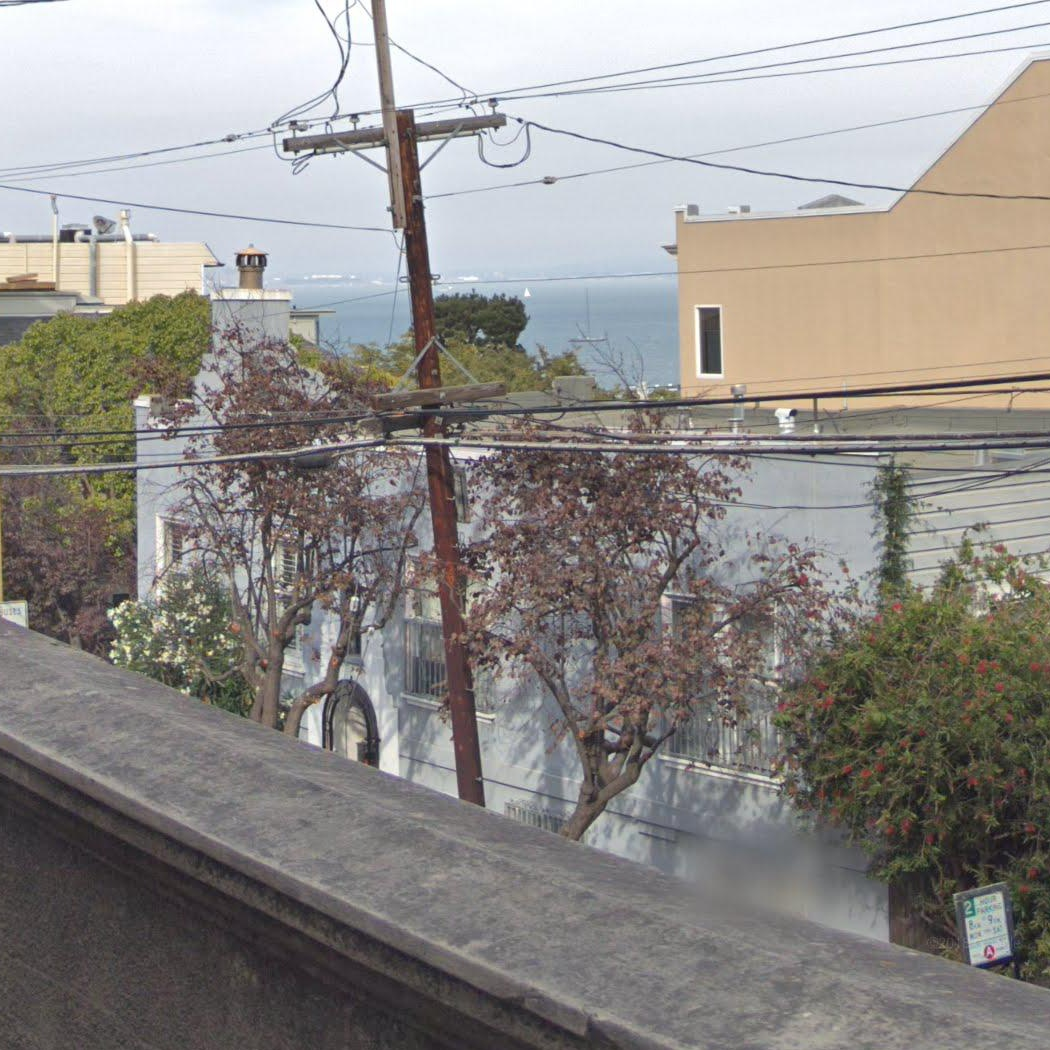2 Hour Parking: (959, 890, 1013, 968)
